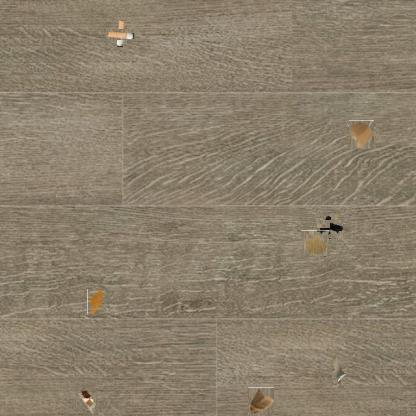dirty: (248, 388, 275, 416), (348, 121, 375, 149), (76, 386, 96, 416), (318, 218, 341, 240), (332, 358, 348, 388), (111, 23, 131, 45)
liquid: (302, 230, 329, 256), (87, 288, 104, 314)
